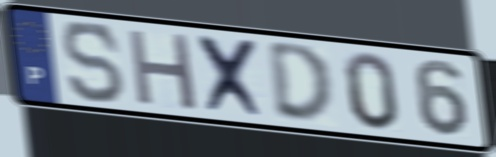0: (341, 49, 402, 133)
6: (410, 57, 469, 139)
D: (264, 41, 337, 127)
H: (125, 25, 201, 113)
S: (59, 19, 129, 106)
X: (194, 32, 271, 122)
